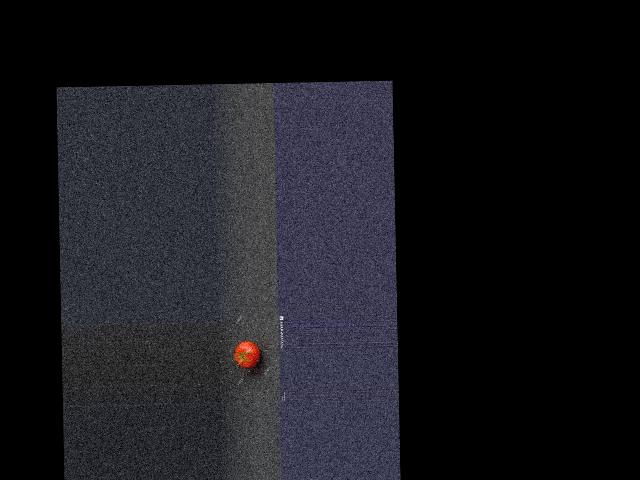tomato: (234, 341, 259, 369)
